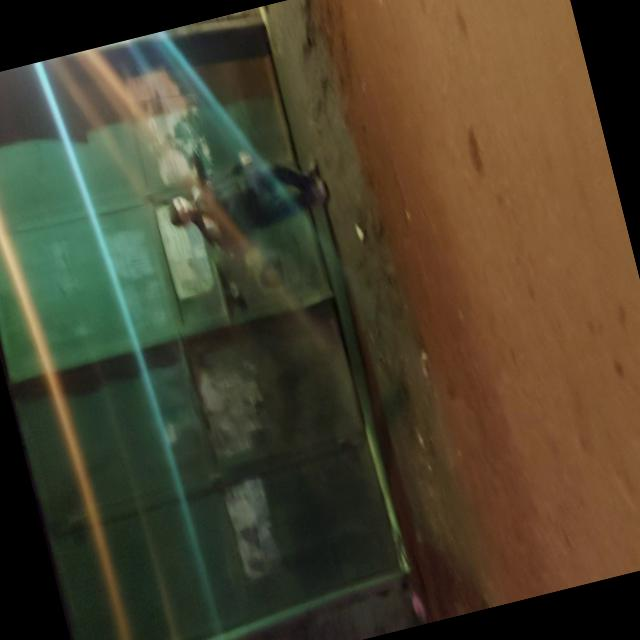long weapon: (170, 118, 232, 237)
